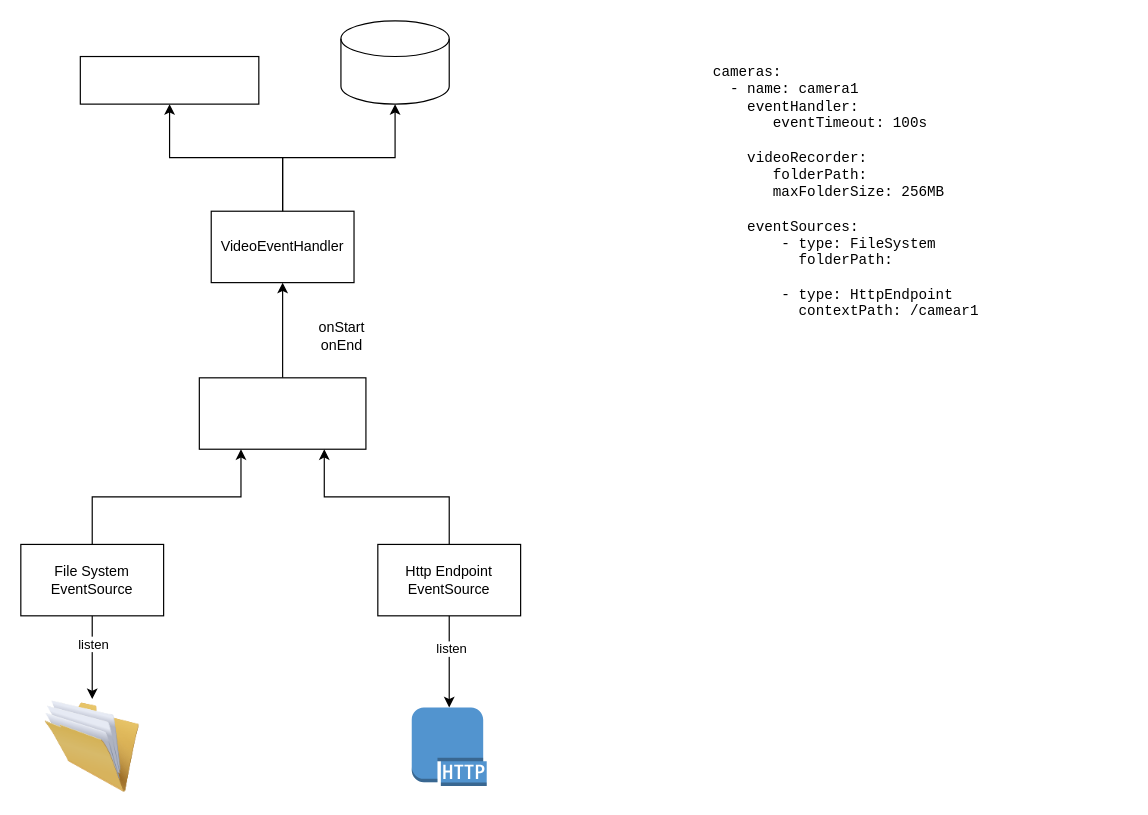
Image size: 1148x815. Some labels were removed from this diagram. The shapes that lost their labels are listed below. From the top down, each one's box as (x1, y1, x2, y2) in pixels, then its label:
(79, 55, 259, 104): VideoRecorderService
(198, 377, 366, 449): EventTimeoutDetector
